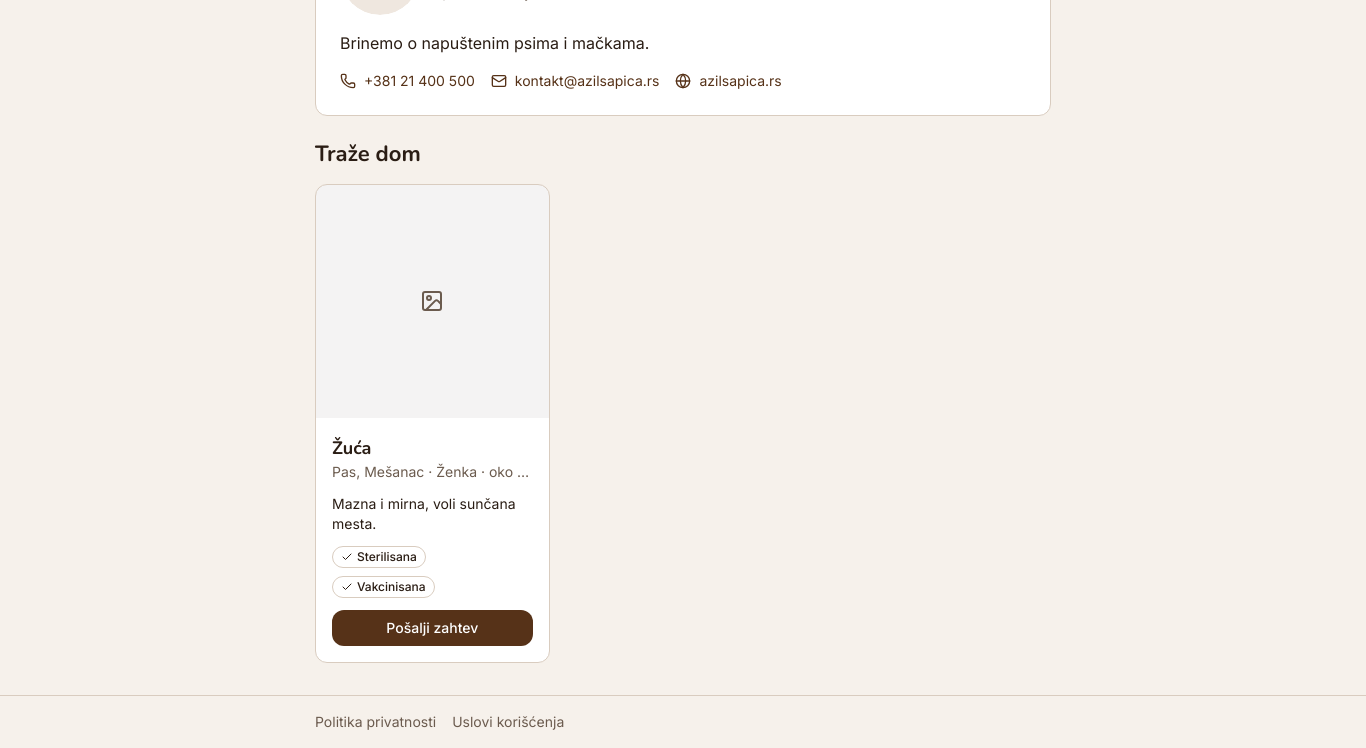
Test: S23 — request Dialog › 422 from EP-63 → inline field errors
(page scrolled)
Click the button "Pošalji zahtev" at (432, 628), box [332,610,533,646]
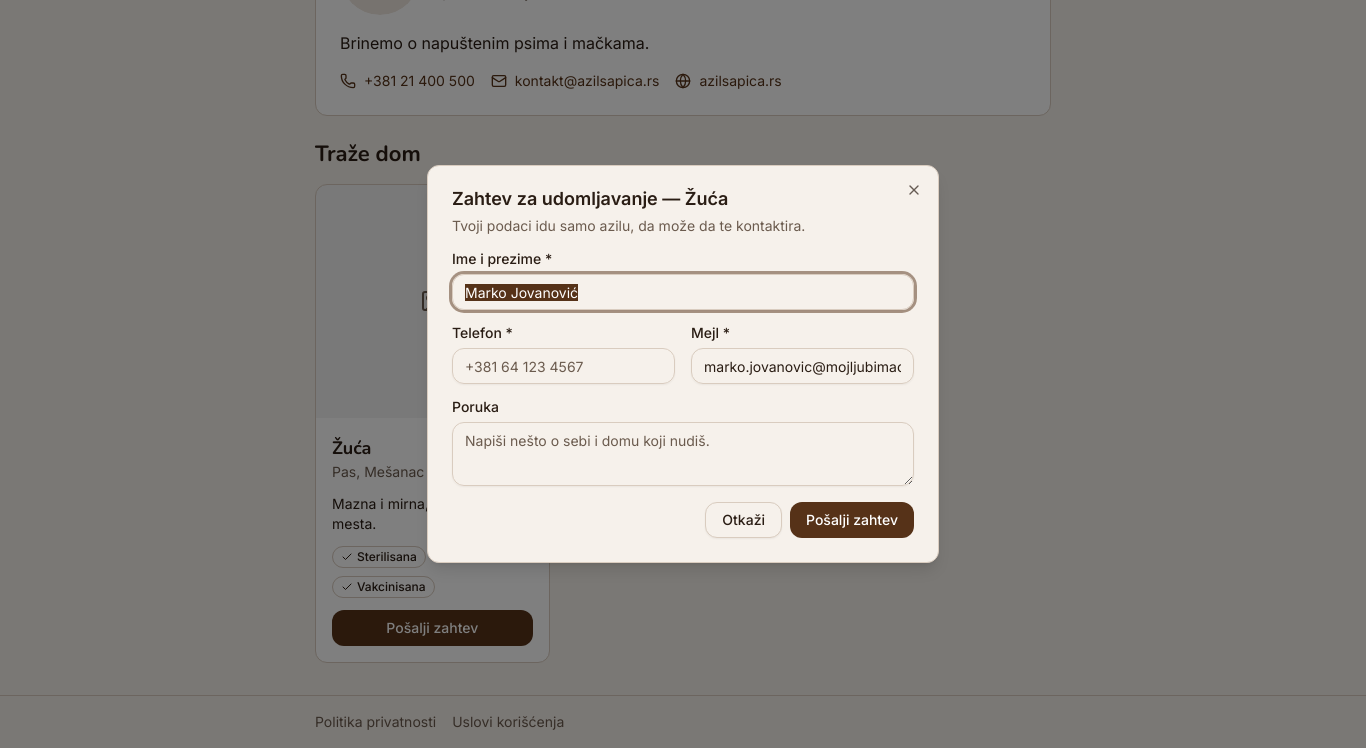
Type "12345" into the field labelled "Telefon *" at (564, 366), box [452,348,675,384]
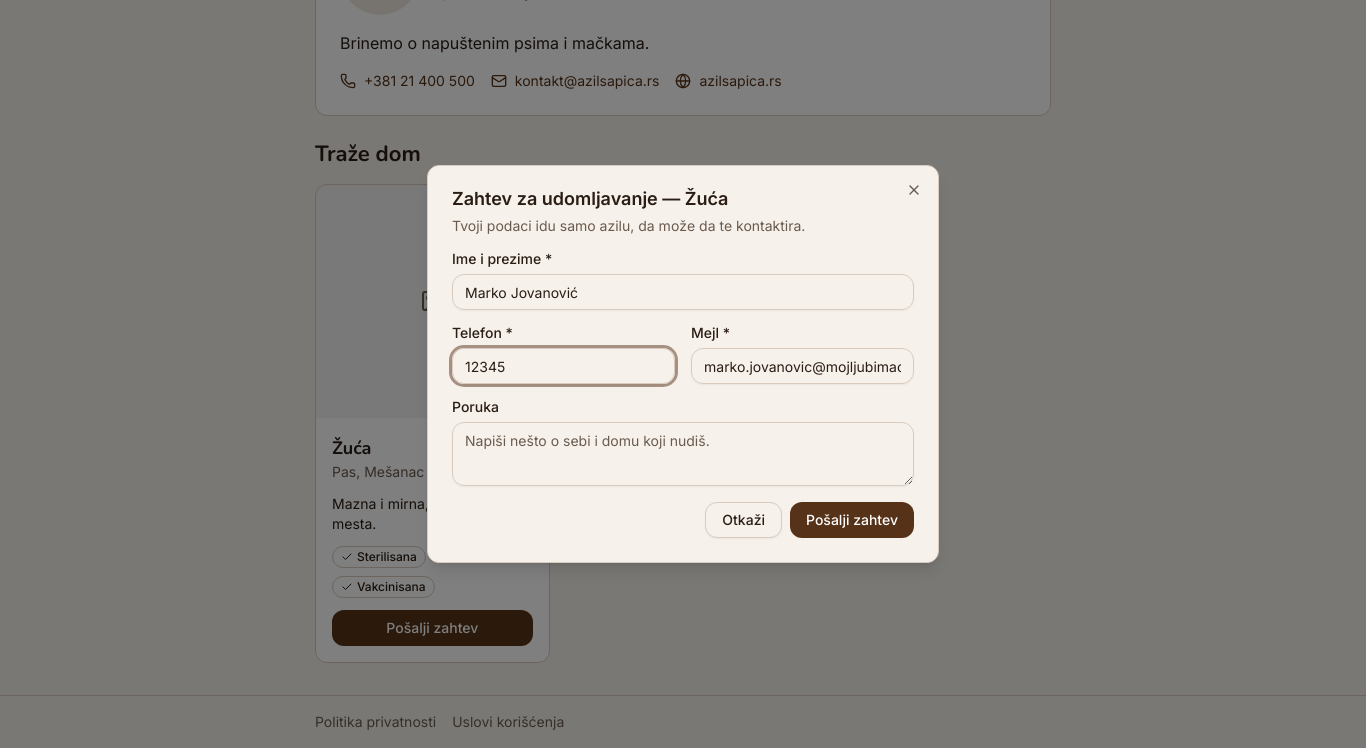
Click the button "Pošalji zahtev" at (852, 520), box [790,502,914,538]
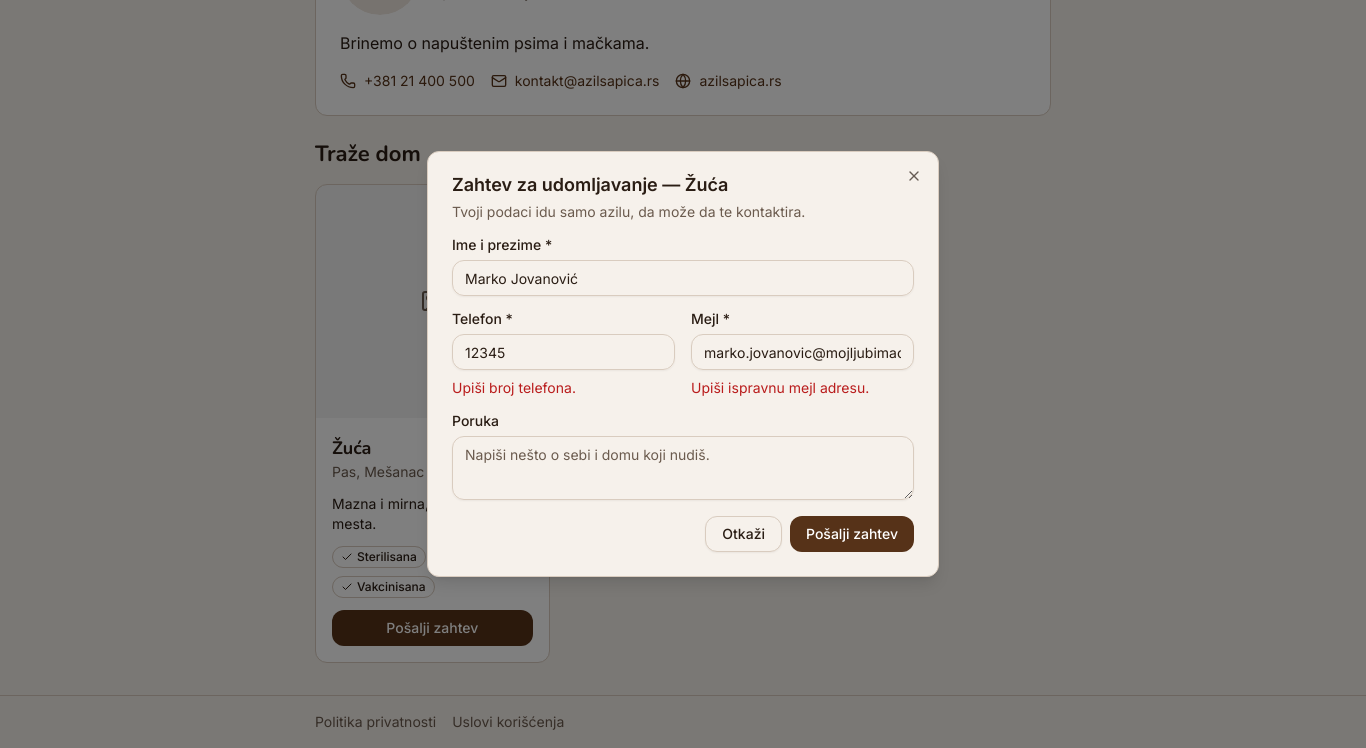
expect the text "Upiši broj telefona." is shown: met, box [452,379,576,396]
expect the text "Upiši ispravnu mejl adresu." is shown: met, box [691,379,869,396]
